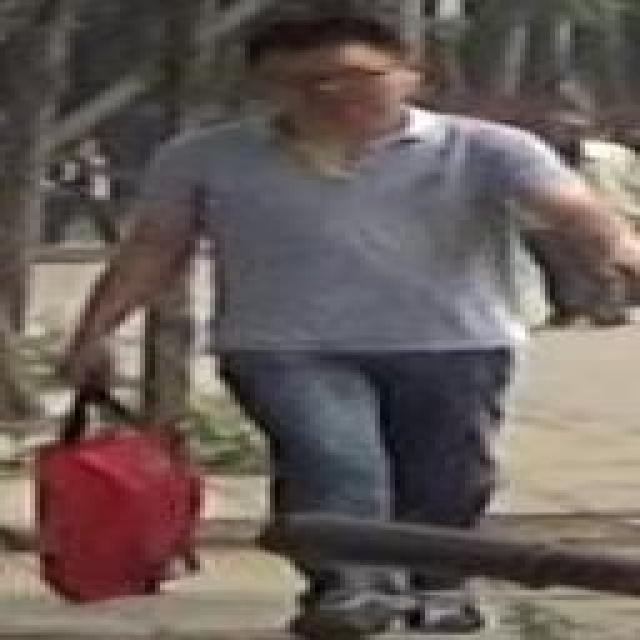adult: (65, 16, 631, 640)
